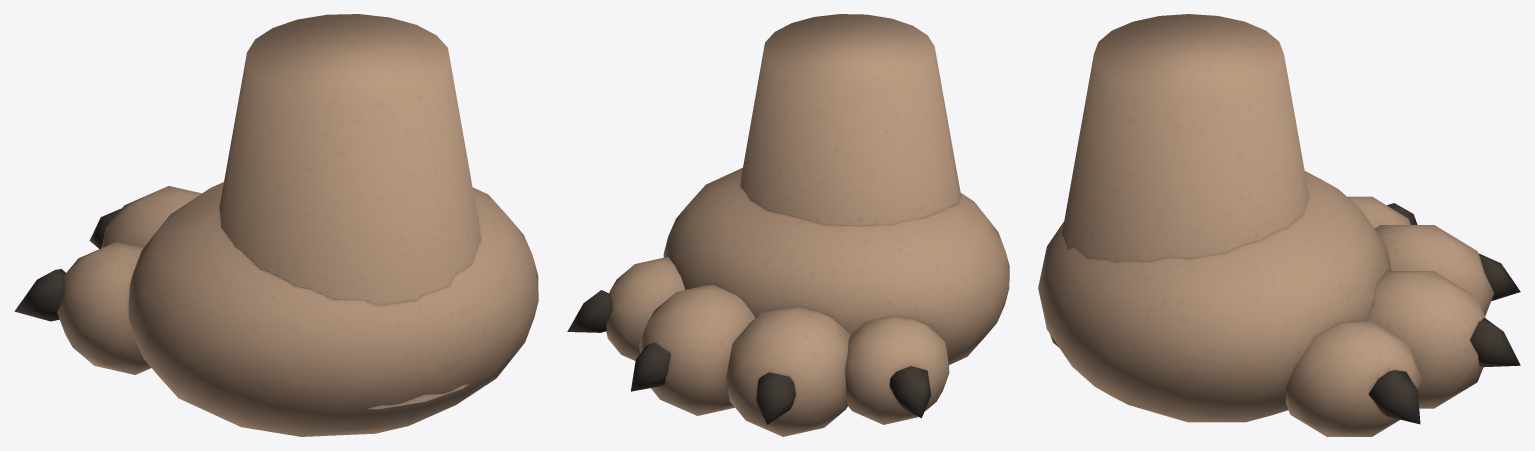
Rendered from cpart_foot_paw.glb.
3 views of the same model, side by side, from view 1: azimuth 30°, elevation 25°; view 2: azimuth 150°, elevation 25°; view 3: azimuth 270°, elevation 25° (orthographic). The views are drawn at different scales.
Visible parts, largest first — view 1: FootPaw, Claws; view 2: FootPaw, Claws; view 3: FootPaw, Claws.
Part boxes in pixels (x1=…): FootPaw: x1=57, y1=14, x2=538, y2=436; Claws: x1=14, y1=208, x2=121, y2=321; FootPaw: x1=606, y1=14, x2=1009, y2=436; Claws: x1=567, y1=290, x2=930, y2=424; FootPaw: x1=1038, y1=14, x2=1493, y2=436; Claws: x1=1368, y1=203, x2=1520, y2=424.
Bounding box in the file's own units: 0.114 × 0.095 × 0.1216.
Materials: 2 (2 with a texture image).
